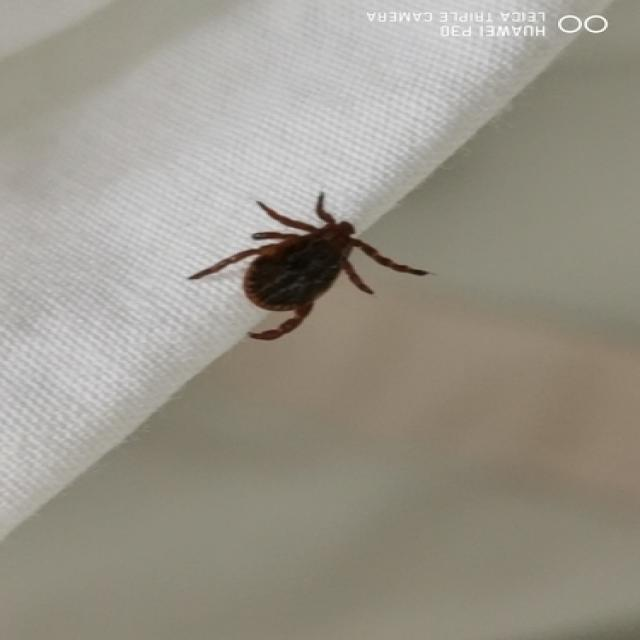Dermacentor Reticulatus-M: (193, 191, 430, 340)
